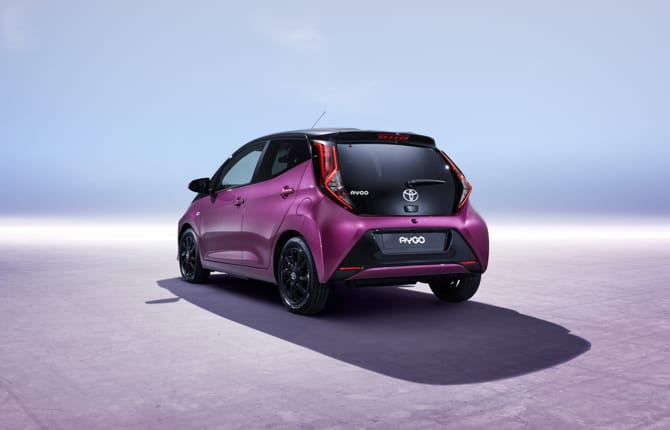Carro: (166, 120, 502, 326)
